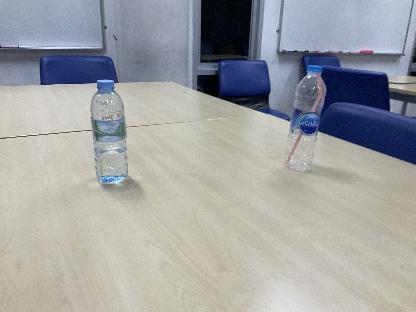Plastic Bottle: (286, 64, 328, 174), (89, 78, 129, 186)
